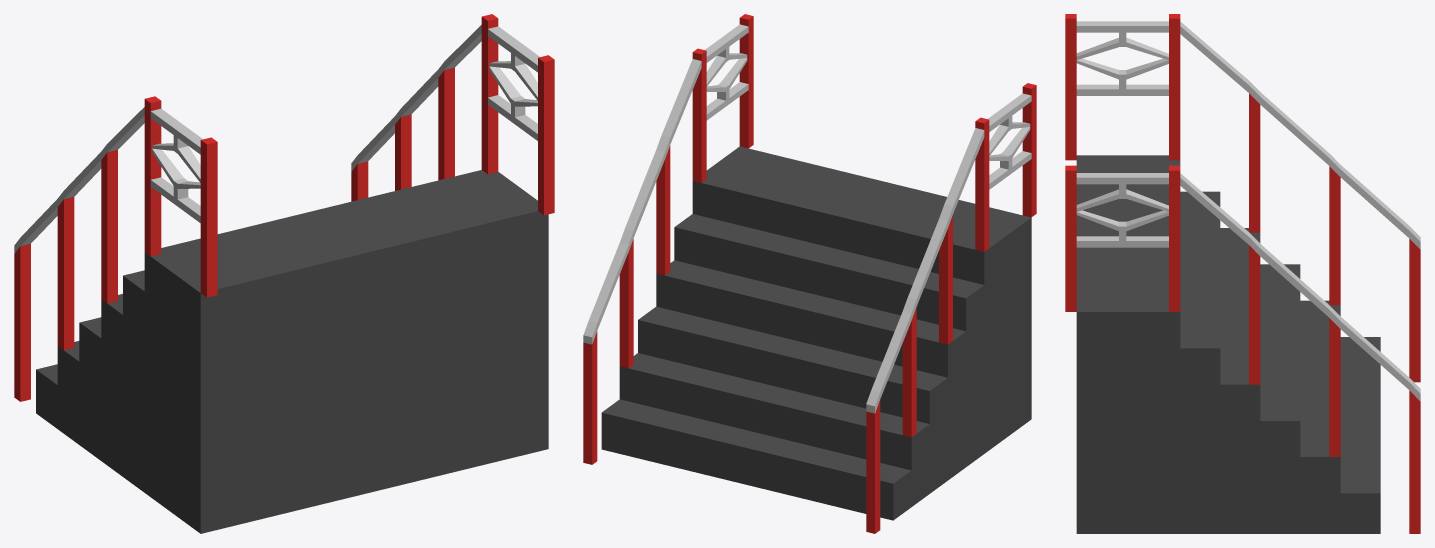
Rendered from ЖД вокзал лестница.fbx.
3 views of the same model, side by side, from view 1: azimuth 30°, elevation 25°; view 2: azimuth 150°, elevation 25°; view 3: azimuth 270°, elevation 25° (orthographic). The views are drawn at different scales.
Parts seen in each view (by area): view 1: Cube.074; view 2: Cube.074; view 3: Cube.074.
Boxes of the visible parts, left/top/right/bottom form: Cube.074: left=14, top=14, right=554, bottom=533; Cube.074: left=583, top=14, right=1036, bottom=533; Cube.074: left=1065, top=14, right=1420, bottom=533.
Bounding box in the file's own units: 537 × 582 × 516.
